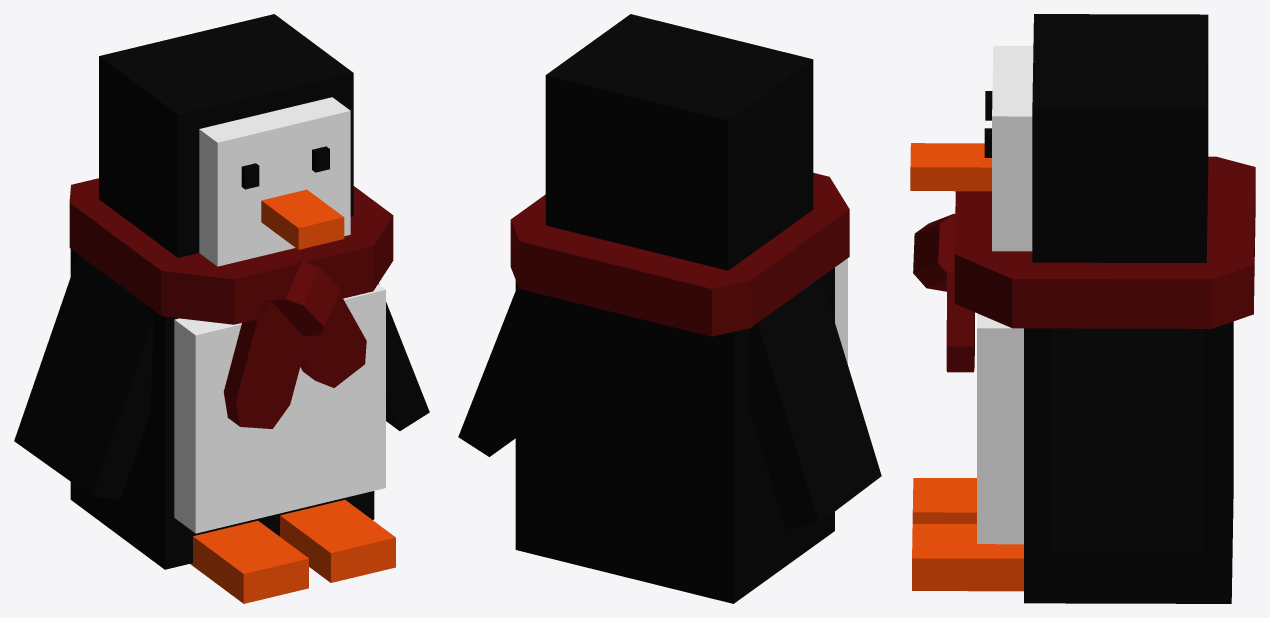
Rendered from PlayerPenguin.obj.
3 renders of one model, left to right at view 1: azimuth 30°, elevation 25°; view 2: azimuth 150°, elevation 25°; view 3: azimuth 270°, elevation 25°, orthographic. The views are drawn at different scales.
Parts seen in each view (by area): view 1: polySurface1138; view 2: polySurface1138; view 3: polySurface1138.
Part boxes in pixels (x1,y1,x2,y2): polySurface1138: [14, 14, 429, 603]; polySurface1138: [458, 14, 881, 603]; polySurface1138: [910, 14, 1255, 603].
Bounding box in the file's own units: 0.8316 × 1.04 × 0.6605.
